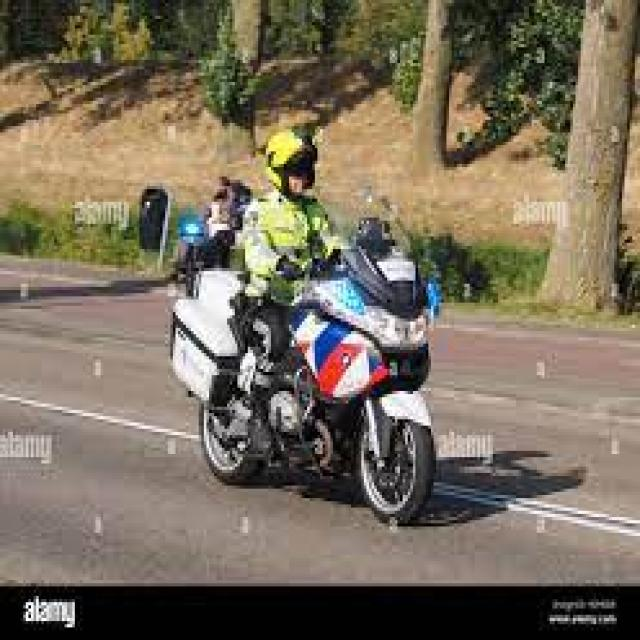Bike: (168, 201, 436, 527)
